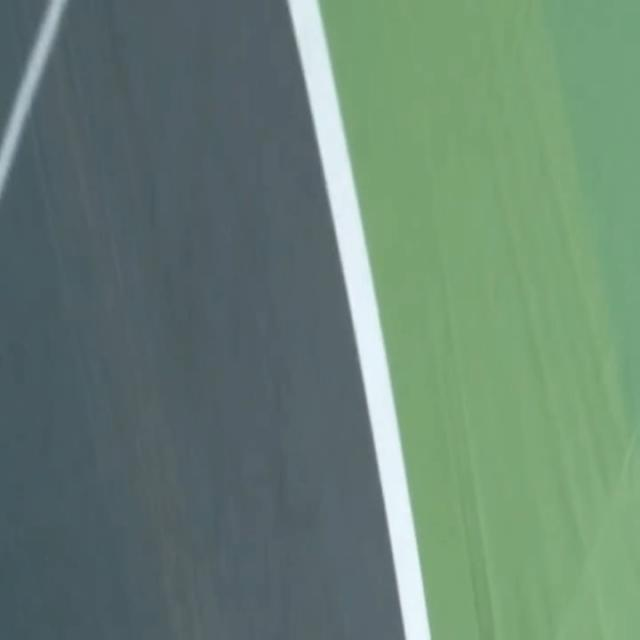right: (288, 0, 430, 639)
